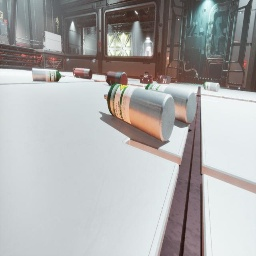0: (104, 83, 175, 143), (145, 84, 197, 124), (32, 68, 66, 82), (202, 82, 220, 92)
EmergencyPhone ,: (0, 10, 3, 19)
FireAlarm ,: (243, 60, 247, 68), (4, 19, 7, 25), (99, 42, 101, 46)
FirstAidBox ,: (140, 72, 153, 84), (73, 66, 77, 74)
NitrogenTank ,: (106, 71, 128, 86), (73, 68, 92, 80), (156, 75, 171, 84)
SafetySwitchPanel ,: (166, 48, 172, 67)
